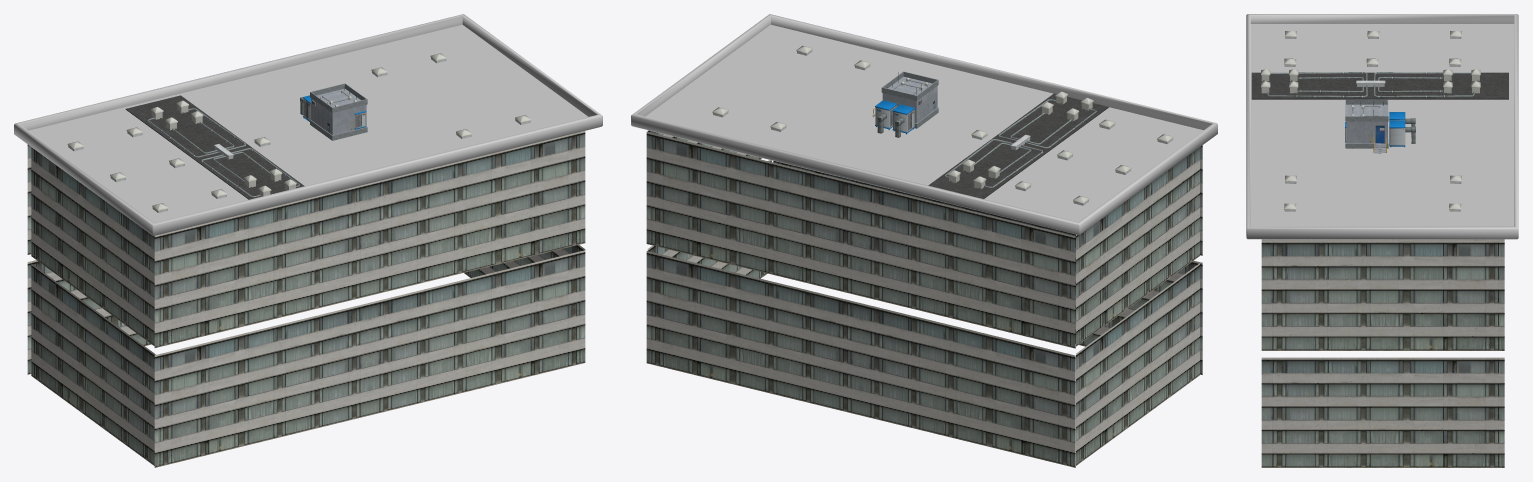
Rendered from u2SEBuild11.gltf.
The picture shows the model from 3 angles, left to right: view 1: azimuth 30°, elevation 25°; view 2: azimuth 150°, elevation 25°; view 3: azimuth 270°, elevation 25°; orthographic projection. The views are drawn at different scales.
Visible parts, largest first — view 1: u2SEBuild11; view 2: u2SEBuild11; view 3: u2SEBuild11.
Boxes of the visible parts, bbox=[...] form: u2SEBuild11: bbox=[14, 14, 602, 467]; u2SEBuild11: bbox=[631, 14, 1217, 467]; u2SEBuild11: bbox=[1246, 14, 1518, 467].
Bounding box in the file's own units: 21.47 × 12.72 × 11.49.
